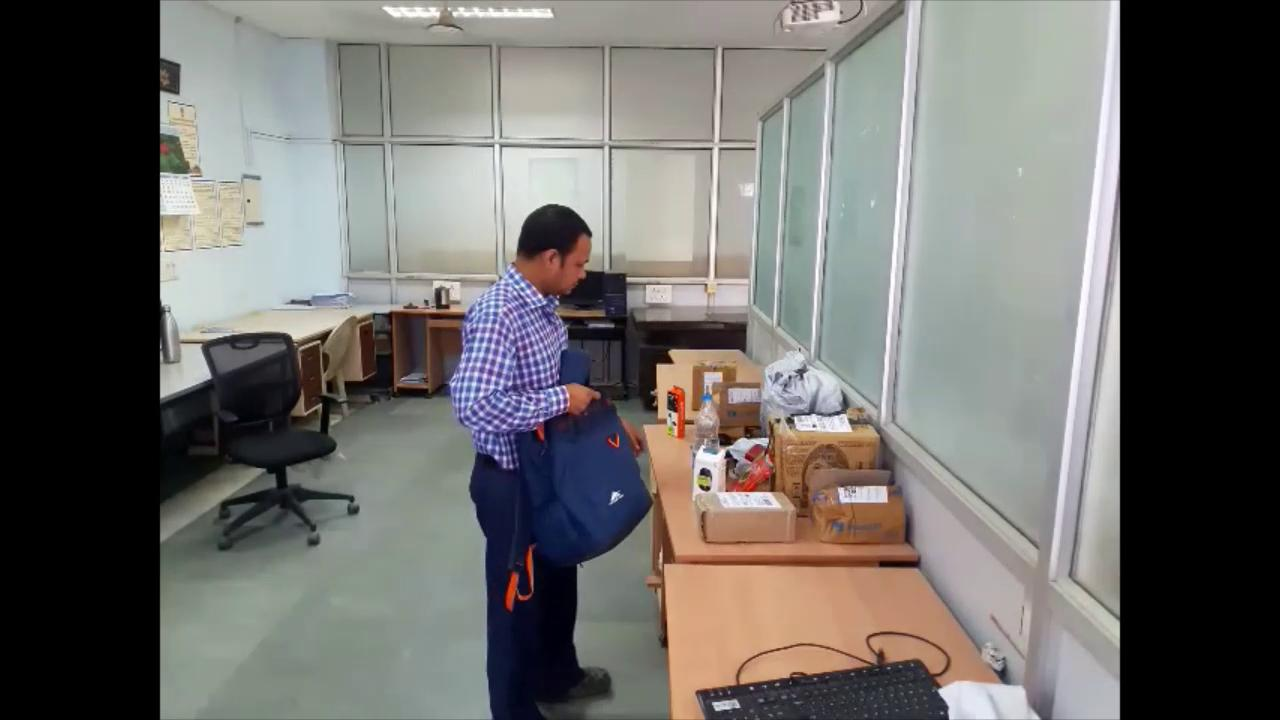shoplifting: (448, 204, 653, 720)
